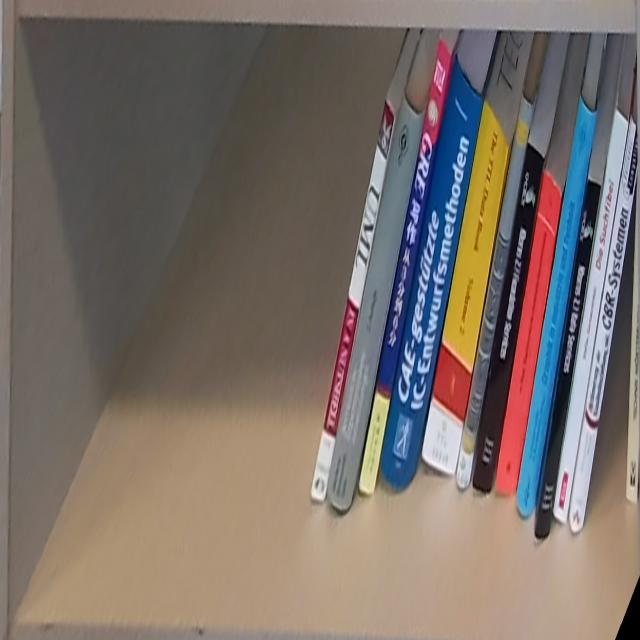Book Spine: (379, 45, 486, 494), (358, 38, 454, 496), (326, 92, 426, 511), (309, 96, 396, 502), (517, 90, 598, 516), (456, 86, 536, 492), (423, 103, 510, 476), (554, 112, 628, 528), (569, 119, 636, 535), (476, 141, 545, 491), (536, 174, 601, 543), (499, 160, 563, 491)
